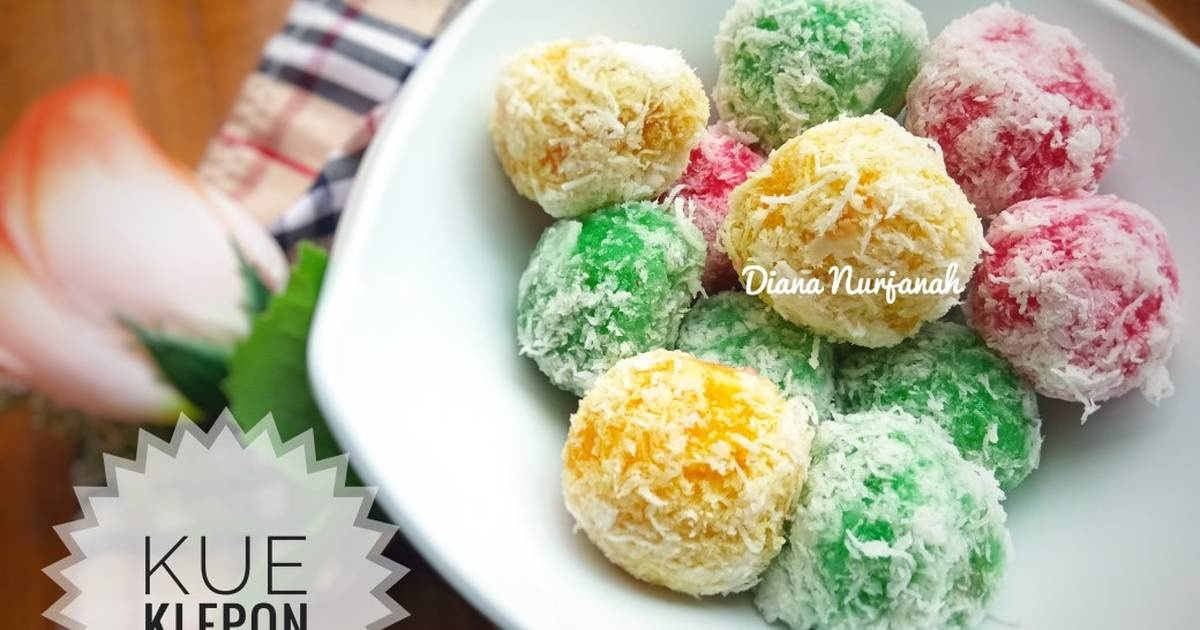klepon: (682, 94, 991, 350)
